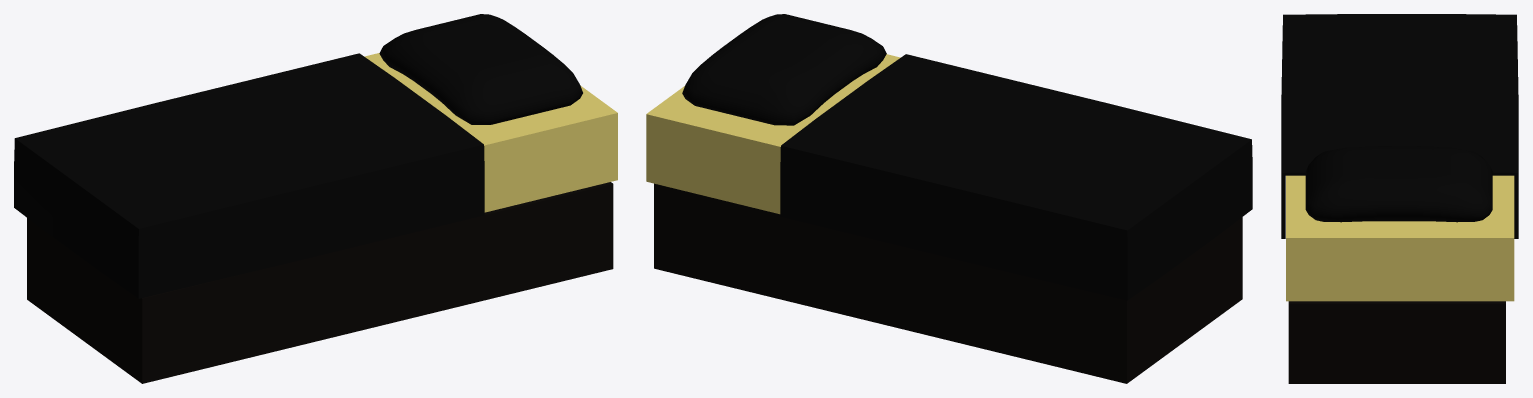
The model's file is CamaPequena.fbx.
3 views of the same model, side by side, from view 1: azimuth 30°, elevation 25°; view 2: azimuth 150°, elevation 25°; view 3: azimuth 270°, elevation 25° (orthographic). The views are drawn at different scales.
Parts seen in each view (by area): view 1: Manta001, BaseCama001, Almohada002, Cama001; view 2: Manta001, BaseCama001, Almohada002, Cama001; view 3: Manta001, Cama001, BaseCama001, Almohada002.
Part boxes in pixels (bbox=[...]): Manta001: bbox=[14, 53, 484, 298]; BaseCama001: bbox=[27, 182, 613, 383]; Almohada002: bbox=[379, 14, 582, 124]; Cama001: bbox=[364, 53, 617, 212]; Manta001: bbox=[780, 54, 1252, 300]; BaseCama001: bbox=[654, 183, 1242, 383]; Almohada002: bbox=[682, 14, 886, 125]; Cama001: bbox=[646, 54, 900, 214]; Manta001: bbox=[1281, 14, 1518, 238]; Cama001: bbox=[1286, 175, 1514, 301]; BaseCama001: bbox=[1288, 301, 1505, 383]; Almohada002: bbox=[1305, 146, 1492, 222].
Bounding box in the file's own units: 2.46 × 0.9648 × 1.11.
